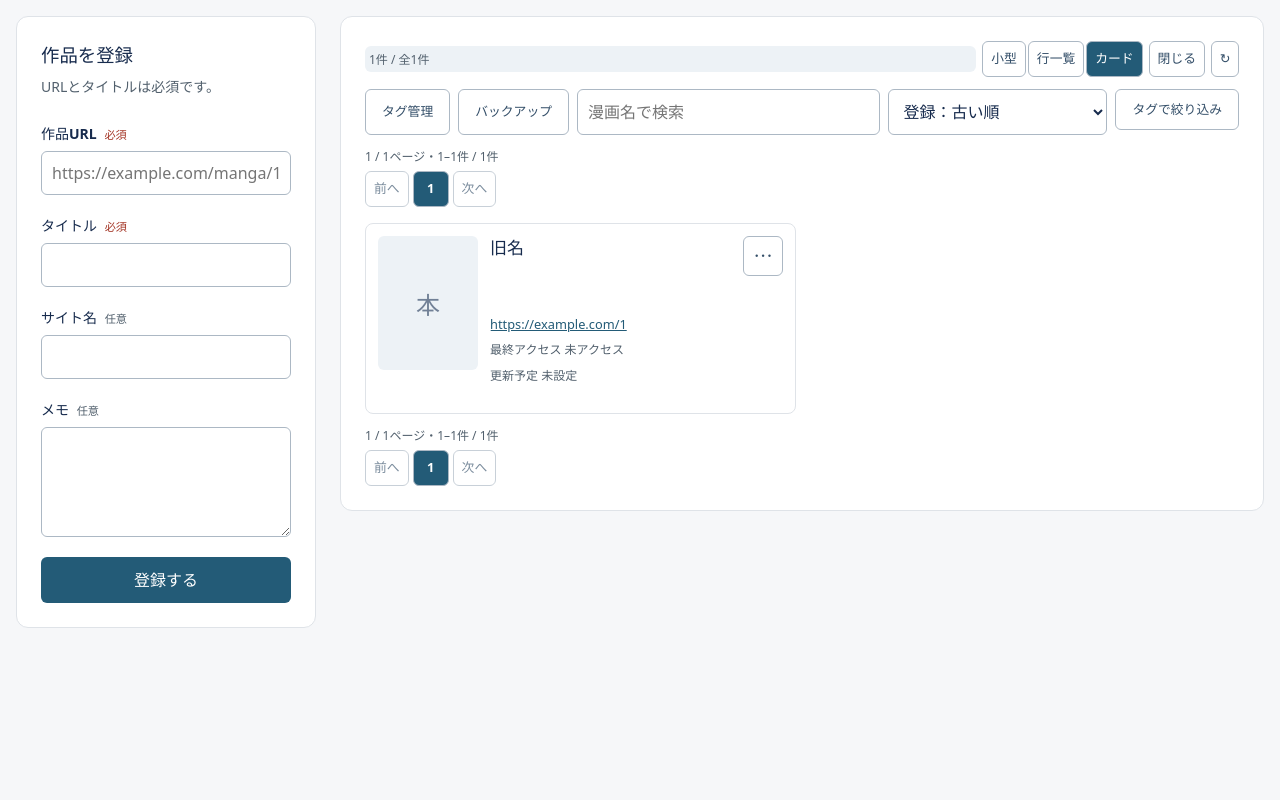
Scenario: 削除確定後の読取失敗は旧表示と成功通知を残すが、旧登録の再操作を止める
The image size is (1280, 800).
Expected: the heading "旧名" is shown, [490,236,524,259]
Click the button named "旧名の作品操作": coordinates (763, 256) [743,236,783,276]
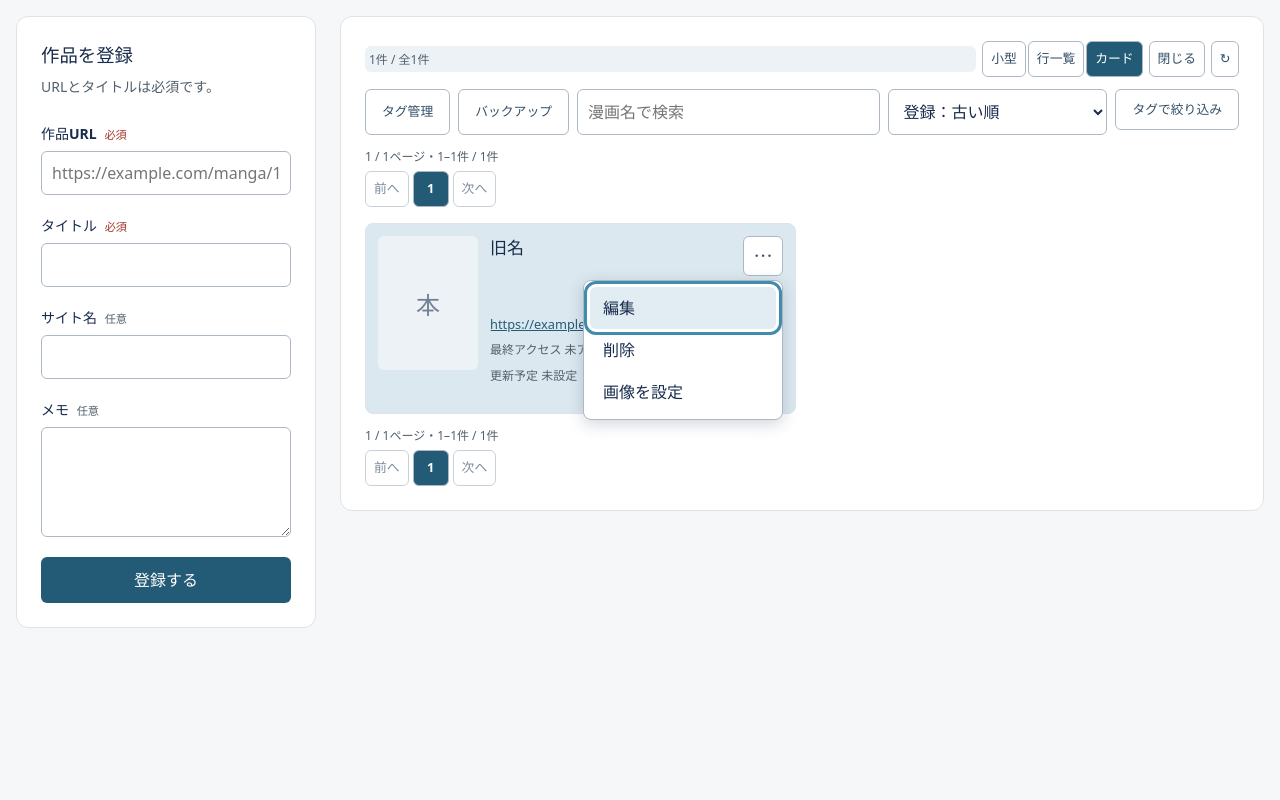
Click the button with aria-label "旧名を削除": coordinates (683, 350) [590,329,776,371]
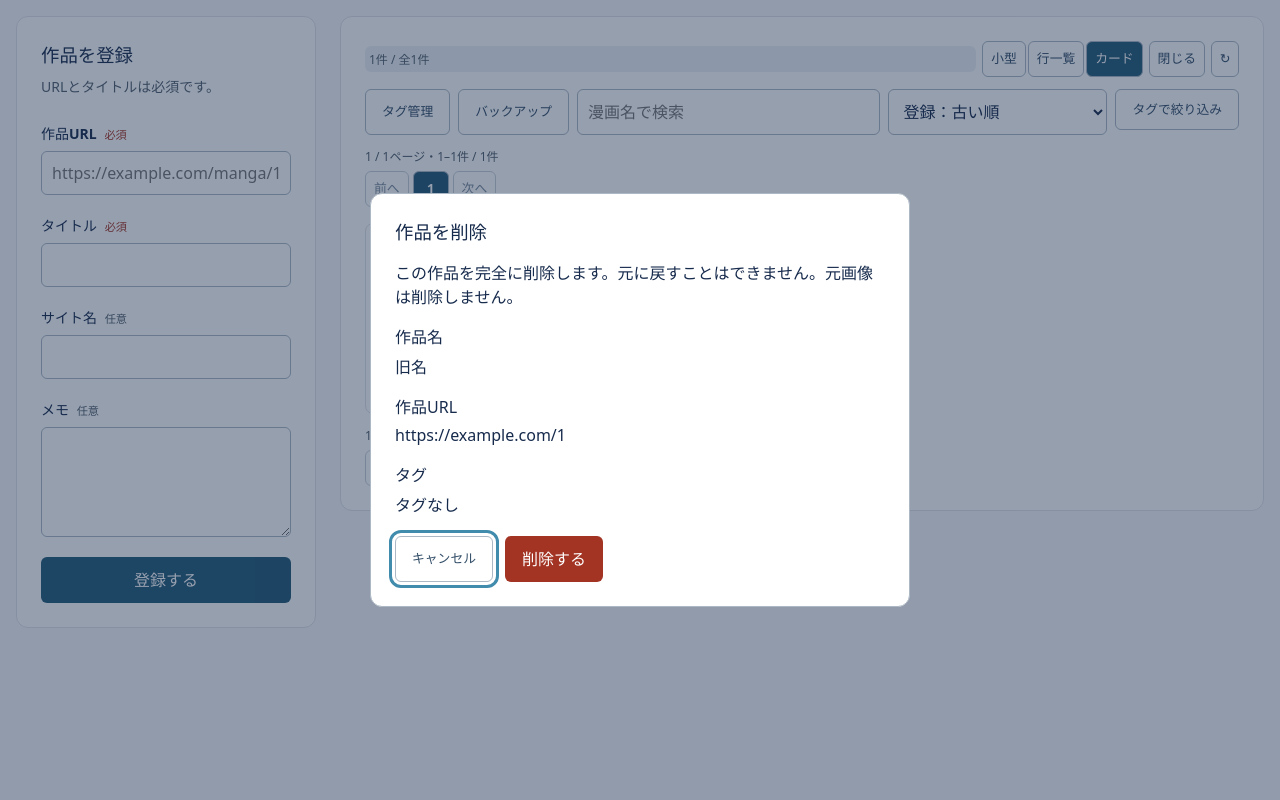
Result: the button "削除する" is enabled
Click the button "削除する": coordinates (554, 559) [505,536,603,582]
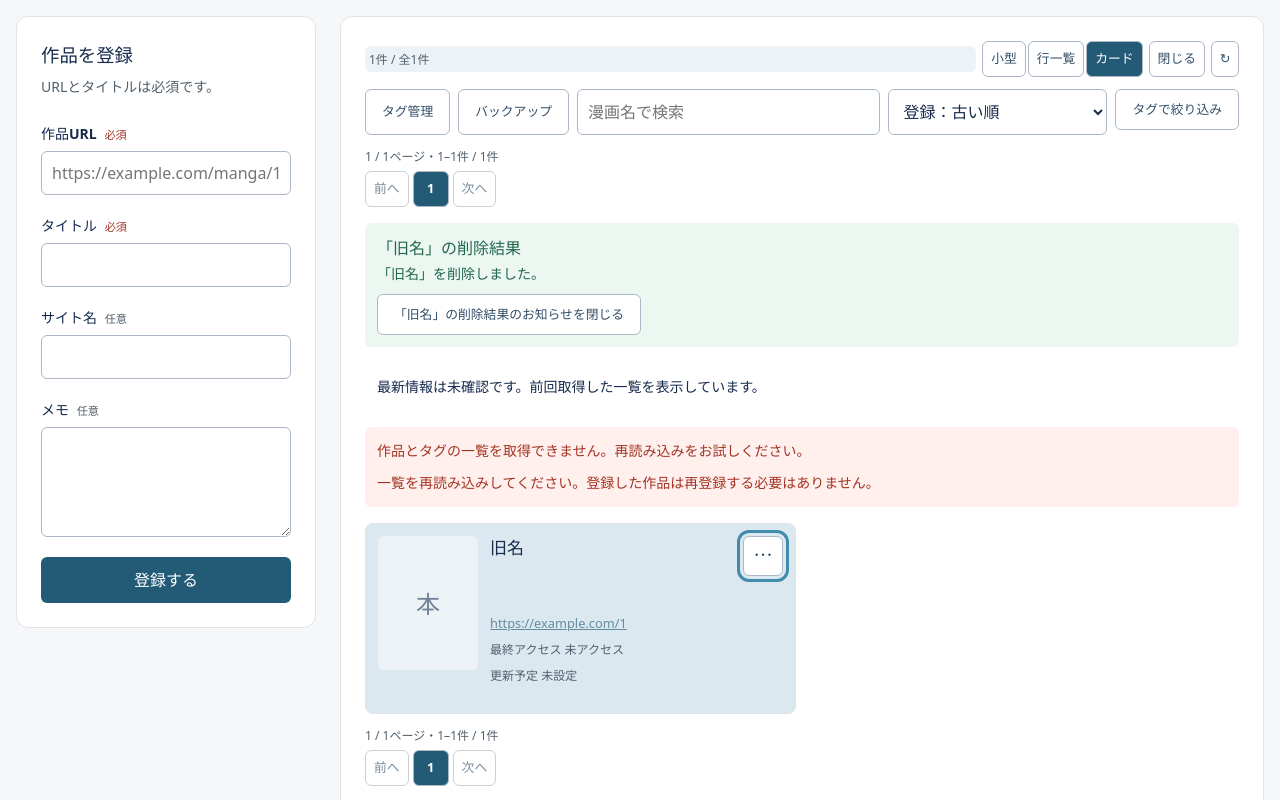
Expected: the heading "旧名" is shown, [490,536,524,559]
Result: the text "「旧名」を削除しました。" is shown at [377,264,545,283]
Result: the button with aria-label "旧名のURLを開く" is disabled at [490,614,731,634]
Click the button named "旧名の作品操作": coordinates (763, 556) [743,536,783,576]
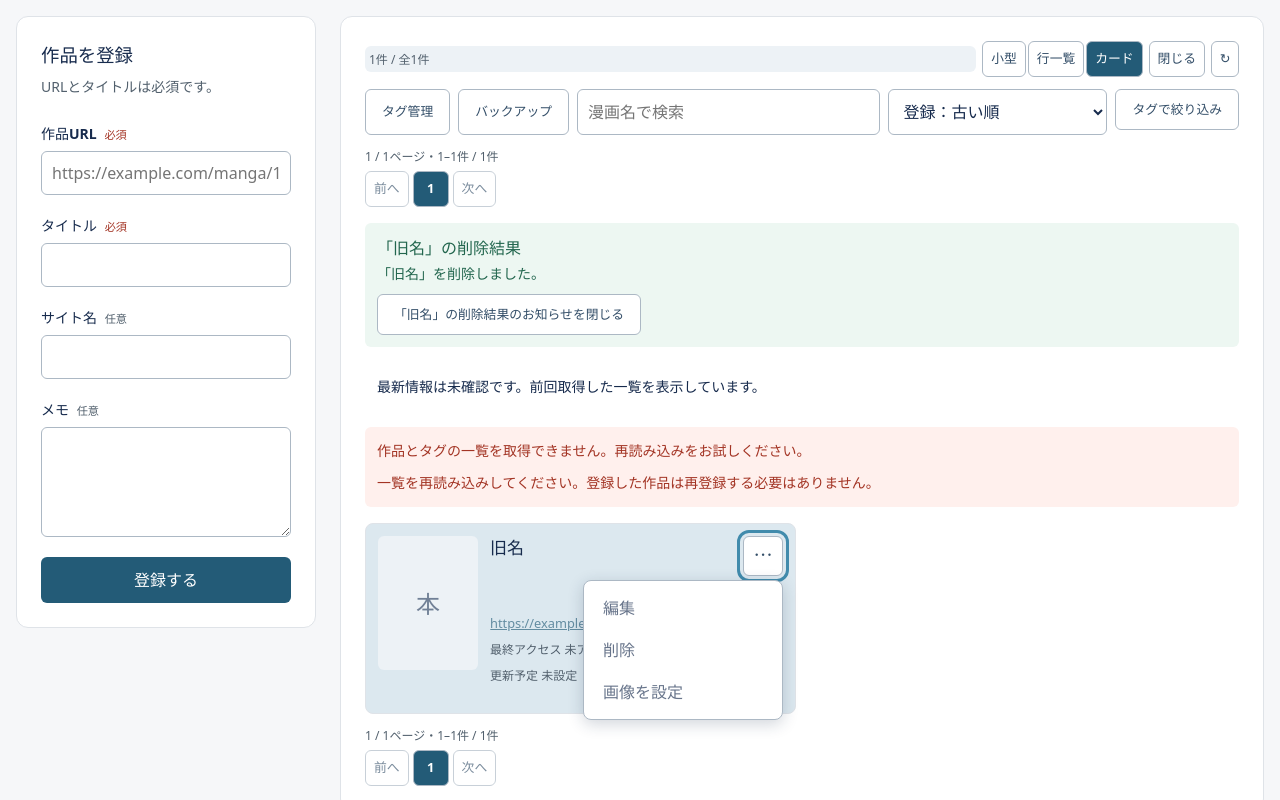
Result: the button with aria-label "旧名を削除" is disabled at [590,629,776,671]
Click the button named "再読み込み": coordinates (1225, 59) [1211,41,1239,77]
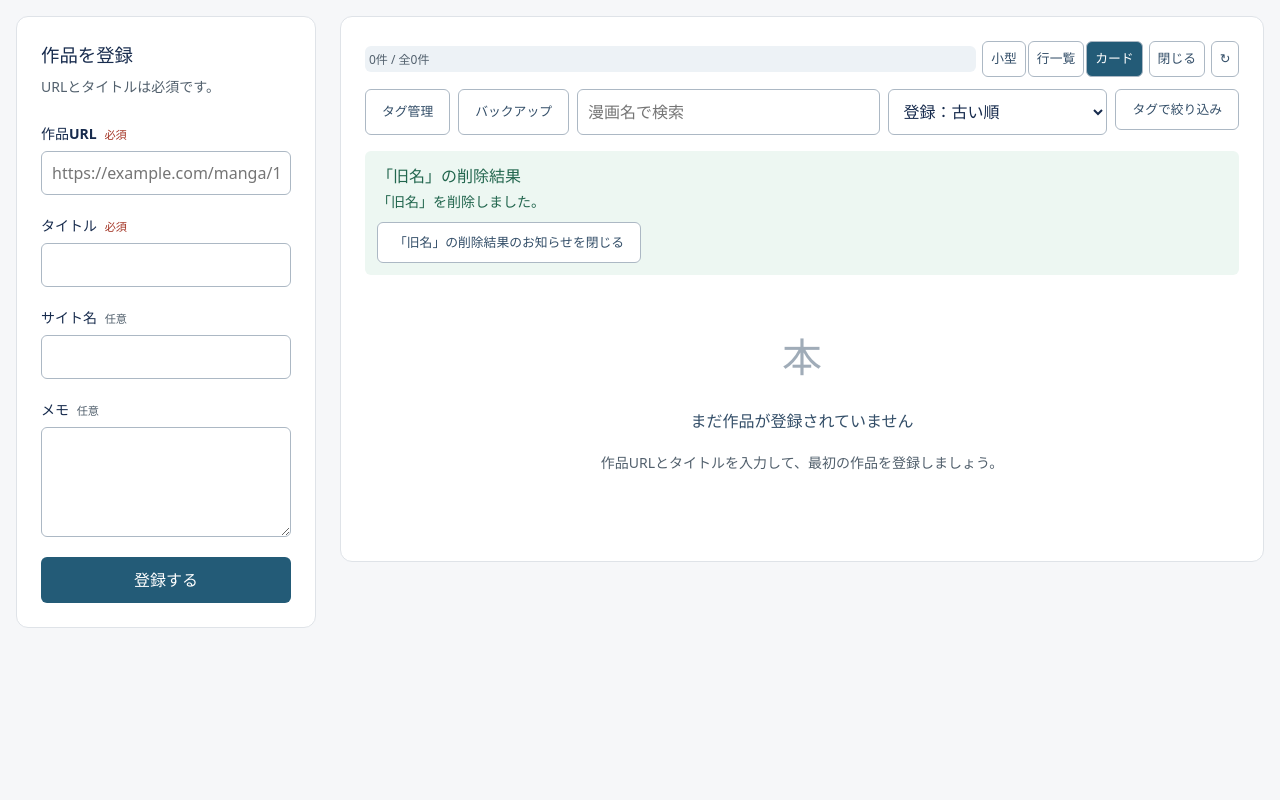
Result: the heading "まだ作品が登録されていません" is shown at [690,410,914,432]
